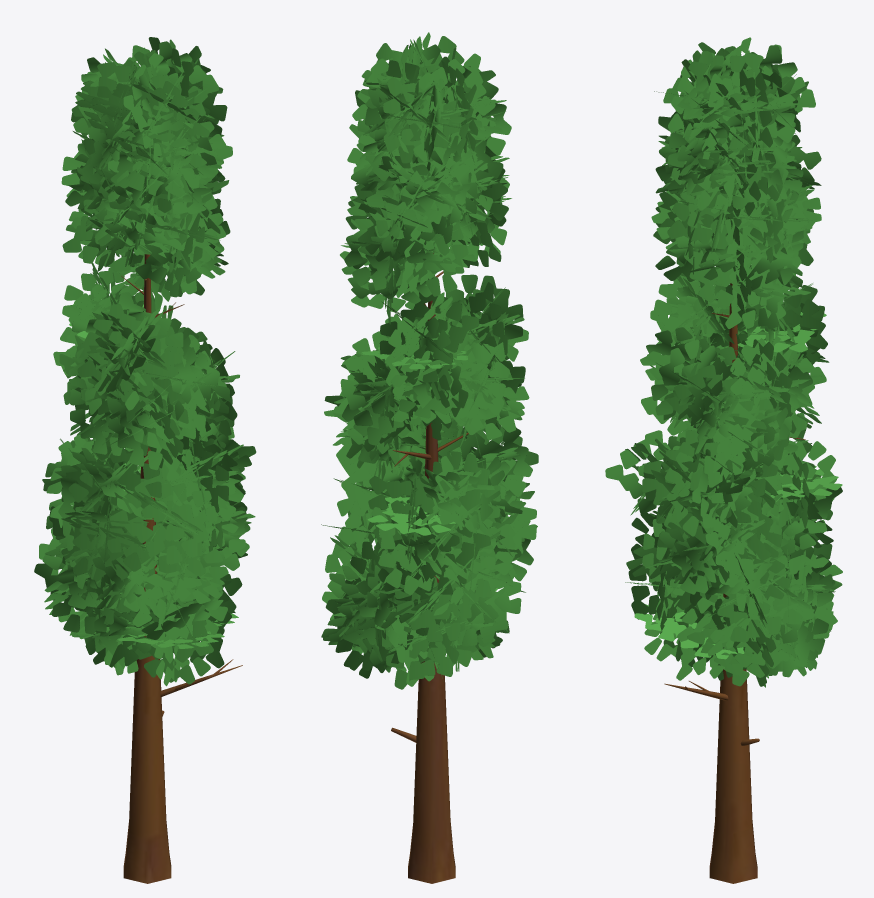
The model's file is st-columnar-2.glb.
3 renders of one model, left to right at view 1: azimuth 30°, elevation 25°; view 2: azimuth 150°, elevation 25°; view 3: azimuth 270°, elevation 25°, orthographic.
Visible parts, largest first — view 1: STColumnar2; view 2: STColumnar2; view 3: STColumnar2.
Boxes of the visible parts, x1,y1,x2,y2 form: STColumnar2: (34,37,256,883); STColumnar2: (321,32,538,883); STColumnar2: (605,37,842,883).
Size of the model in its own units: 4.01 by 14.29 by 4.14.
Materials: 2 (2 with a texture image).
